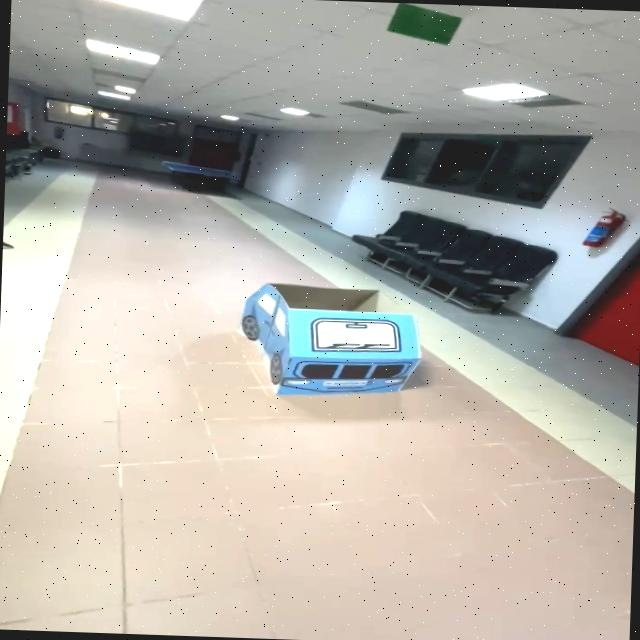blue_car: (226, 269, 450, 416)
